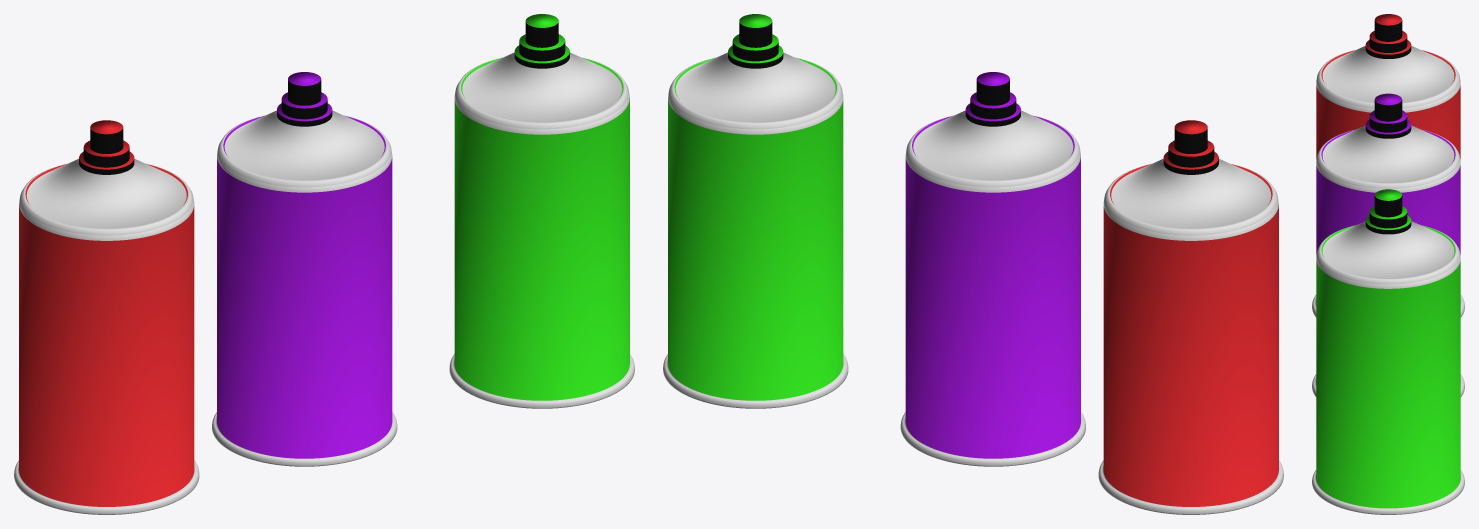
File: sprays.fbx
The picture shows the model from 3 angles, left to right: view 1: azimuth 30°, elevation 25°; view 2: azimuth 150°, elevation 25°; view 3: azimuth 270°, elevation 25°; orthographic projection. The views are drawn at different scales.
Parts seen in each view (by area): view 1: Green Spray, Purple Spray, RedSpray; view 2: Green Spray, Purple Spray, RedSpray; view 3: Green Spray, Purple Spray, RedSpray.
Boxes of the visible parts, x1,y1,x2,y2 form: Green Spray: (449, 14, 634, 408); Purple Spray: (212, 72, 397, 466); RedSpray: (14, 120, 199, 514); Green Spray: (663, 14, 848, 408); Purple Spray: (900, 72, 1085, 466); RedSpray: (1098, 120, 1283, 514); Green Spray: (1312, 189, 1464, 514); Purple Spray: (1312, 93, 1464, 396); RedSpray: (1312, 14, 1464, 317).
Size of the model in its own units: 785 by 439 by 212.
